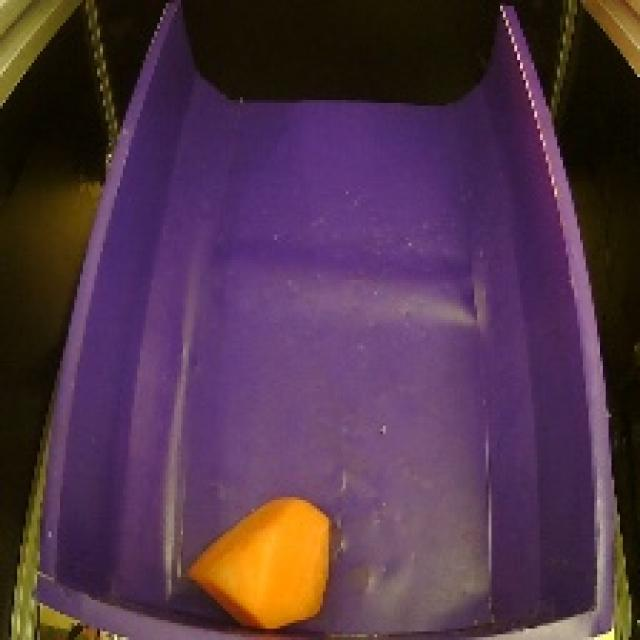carrots: (168, 485, 337, 640)
